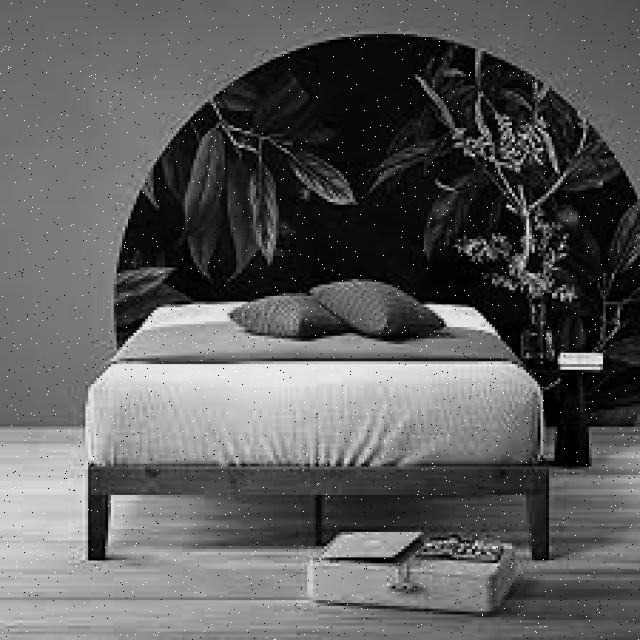bed: (81, 286, 550, 480)
